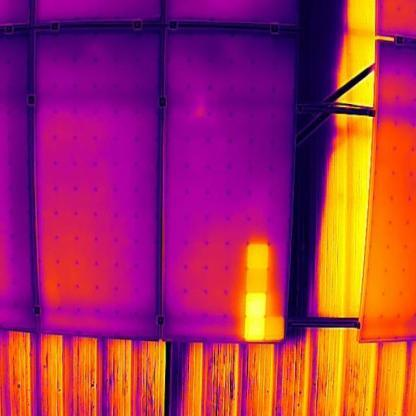anomaly: (238, 239, 288, 345)
